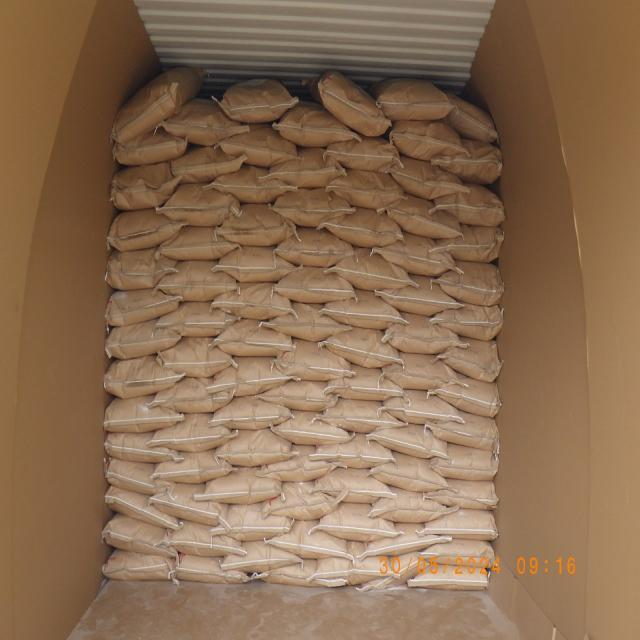gunny_bag: (108, 65, 206, 144), (318, 70, 392, 138), (164, 96, 248, 146), (276, 105, 361, 150), (328, 248, 412, 293), (159, 184, 243, 228), (220, 124, 300, 170), (218, 203, 299, 248), (376, 77, 456, 122), (222, 78, 300, 124), (377, 232, 457, 276), (152, 482, 230, 527), (109, 164, 180, 213), (270, 188, 352, 230), (276, 339, 356, 382), (210, 356, 296, 396), (388, 156, 466, 200), (384, 195, 462, 239), (102, 516, 178, 561), (378, 274, 461, 315), (267, 302, 352, 342), (105, 485, 180, 530), (384, 314, 463, 356), (434, 184, 507, 229), (156, 262, 238, 302), (321, 288, 403, 328), (150, 412, 232, 452), (326, 168, 404, 210), (266, 520, 352, 558), (322, 210, 403, 250), (104, 356, 185, 396), (215, 320, 296, 360), (363, 524, 453, 560), (109, 208, 184, 251), (270, 146, 348, 187), (202, 468, 284, 507), (158, 337, 236, 378), (388, 121, 464, 163), (323, 328, 402, 368), (212, 502, 295, 540), (214, 245, 296, 283), (210, 168, 292, 206), (162, 523, 246, 560), (438, 262, 507, 307), (215, 282, 296, 320), (106, 321, 182, 361), (104, 396, 184, 434), (214, 430, 294, 468), (105, 288, 181, 328), (106, 250, 178, 292), (434, 140, 504, 183), (444, 90, 500, 143), (278, 226, 356, 264), (263, 482, 340, 520), (111, 128, 186, 167), (274, 267, 353, 304), (369, 457, 448, 494), (318, 400, 403, 434), (171, 147, 245, 186), (158, 302, 238, 338), (316, 504, 396, 540), (158, 226, 240, 261), (151, 448, 233, 483), (382, 354, 457, 392), (211, 396, 292, 431), (316, 544, 390, 582), (323, 138, 401, 174), (314, 434, 394, 469), (430, 376, 500, 416), (372, 423, 449, 459), (324, 367, 403, 402), (383, 392, 464, 426), (426, 442, 498, 480), (156, 376, 236, 410), (426, 414, 499, 451), (432, 226, 503, 264), (103, 458, 174, 496), (438, 340, 502, 382), (432, 303, 504, 340), (316, 470, 394, 504), (270, 412, 348, 446), (358, 552, 432, 587), (370, 490, 450, 522), (222, 542, 302, 574), (256, 560, 347, 588), (106, 429, 182, 462), (100, 550, 178, 582), (260, 378, 340, 408), (258, 452, 336, 482), (173, 554, 250, 584), (422, 510, 497, 540), (428, 480, 501, 510), (422, 541, 499, 569), (410, 564, 492, 588)
